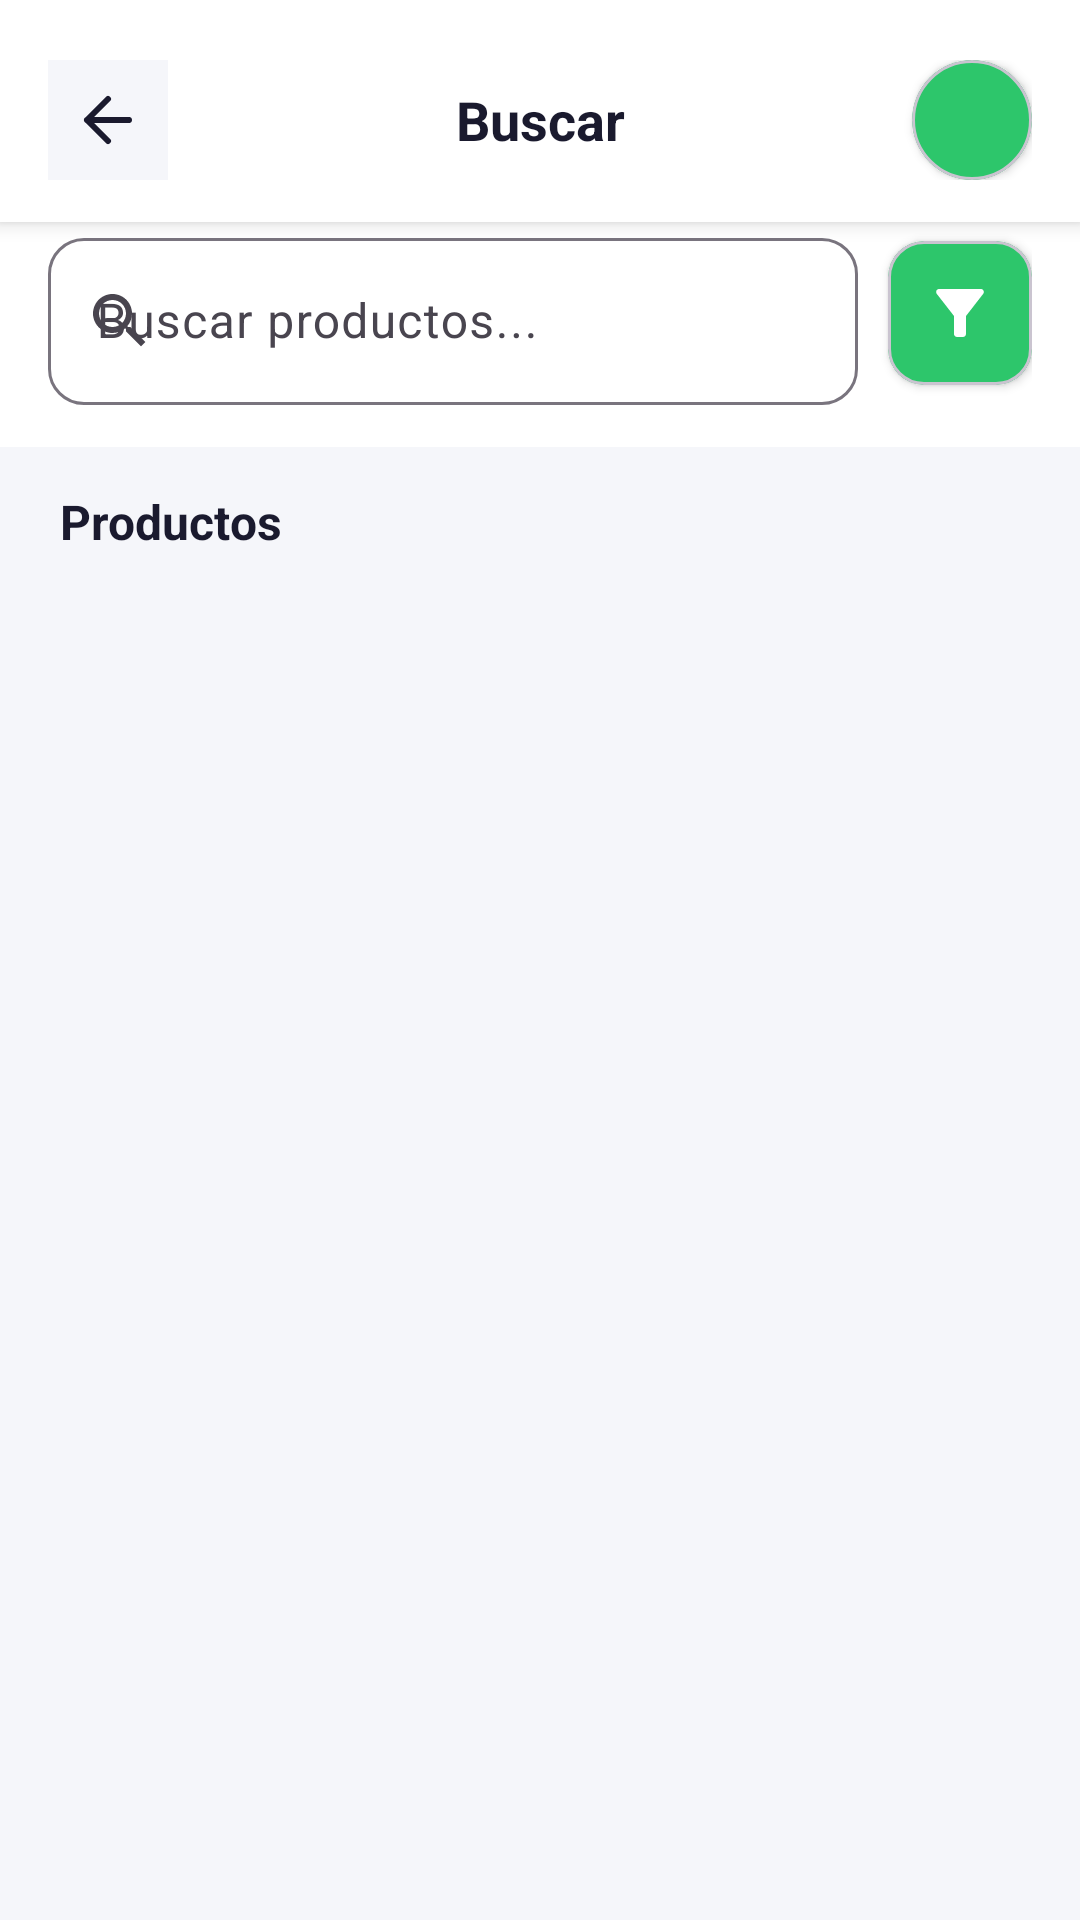

Screen size 1080px×1920px. Icon name, then its center in pixels as point (x, y):
back: point (108, 120)
filter: point (960, 313)
